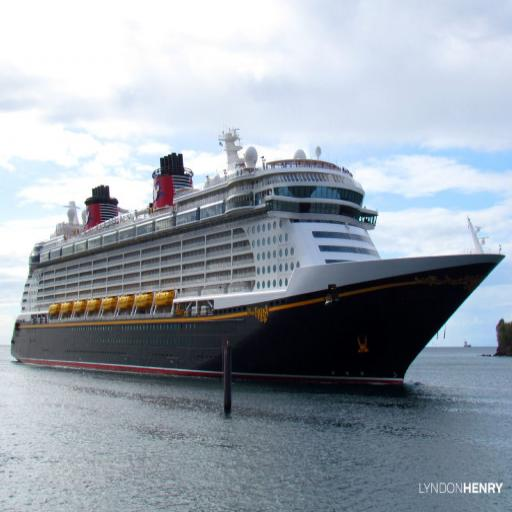cruises: (9, 126, 509, 396)
